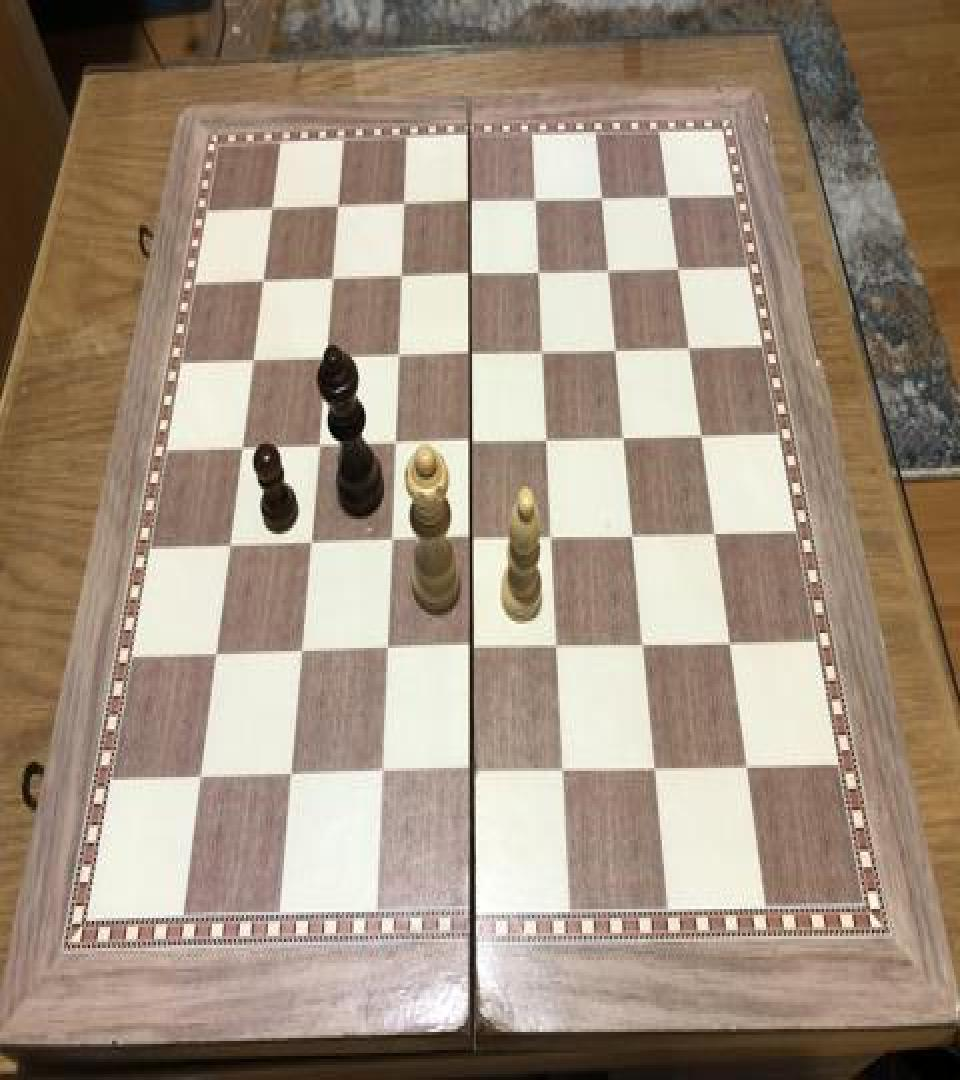xcorner: (701, 514, 725, 551), (540, 520, 564, 557), (289, 637, 313, 674), (204, 640, 228, 677), (733, 748, 757, 785), (655, 178, 679, 214), (590, 182, 614, 218), (524, 183, 548, 219), (458, 186, 482, 222), (327, 190, 351, 226), (262, 192, 286, 228), (665, 250, 689, 286), (596, 254, 620, 290), (527, 255, 551, 291), (459, 258, 483, 294), (321, 262, 345, 298), (253, 264, 277, 300), (676, 330, 700, 366), (603, 333, 627, 369), (531, 334, 555, 370), (459, 338, 483, 374), (387, 339, 411, 375), (314, 342, 338, 378), (242, 345, 266, 381), (688, 417, 712, 453), (611, 420, 635, 456), (535, 423, 559, 459), (459, 424, 483, 460), (383, 428, 407, 464), (231, 432, 255, 468), (620, 518, 644, 554), (459, 524, 483, 560), (379, 525, 403, 561), (298, 528, 322, 564), (218, 531, 242, 567), (716, 624, 740, 660), (630, 627, 654, 663), (545, 630, 569, 666), (459, 633, 483, 669), (374, 636, 398, 672), (642, 752, 666, 788), (551, 753, 575, 789), (460, 756, 484, 792), (369, 759, 393, 795), (278, 762, 302, 798), (188, 765, 212, 801), (393, 188, 417, 223), (390, 260, 414, 295), (307, 431, 331, 466)
